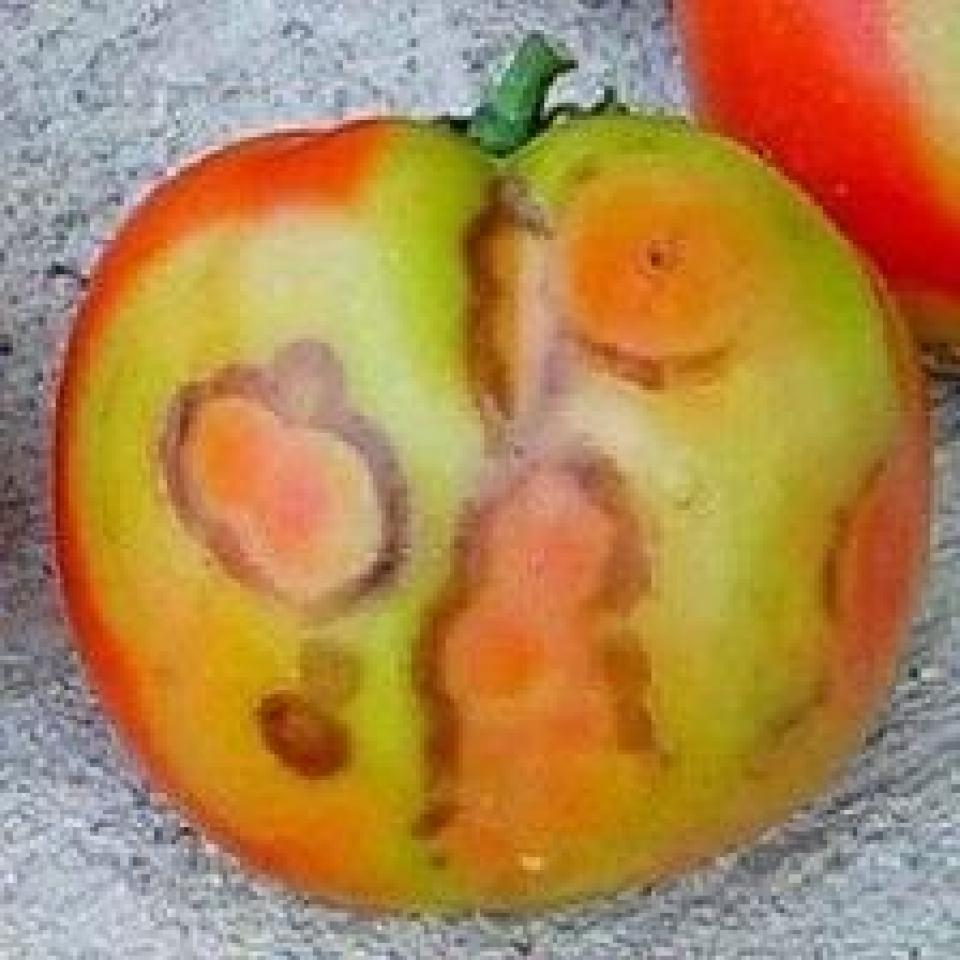Spotted wilt Virus: (49, 118, 930, 914)
